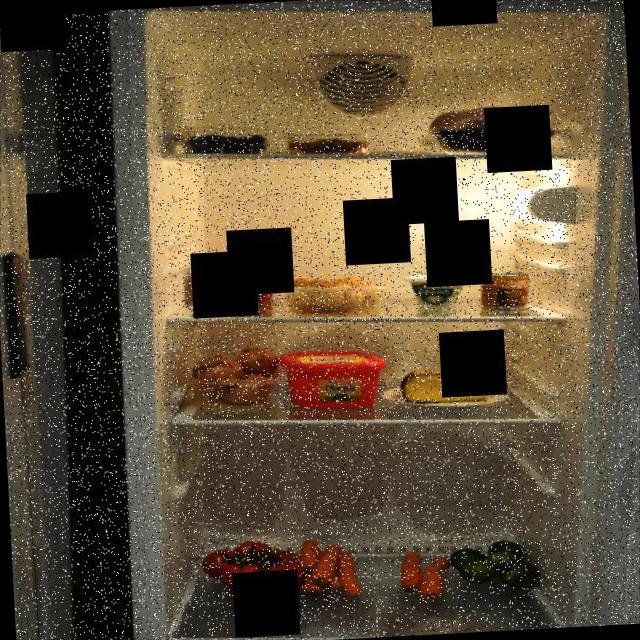Carne pollo: (416, 96, 564, 164)
Cebolla: (187, 340, 284, 411)
Gambas/Langostinos: (286, 132, 371, 162)
Mantequilla: (278, 342, 391, 415)
Patata: (289, 267, 401, 322)
Queso: (399, 362, 494, 409)
Tomate: (198, 535, 310, 600)
Zanahoria: (297, 536, 368, 601), (396, 547, 456, 603)
